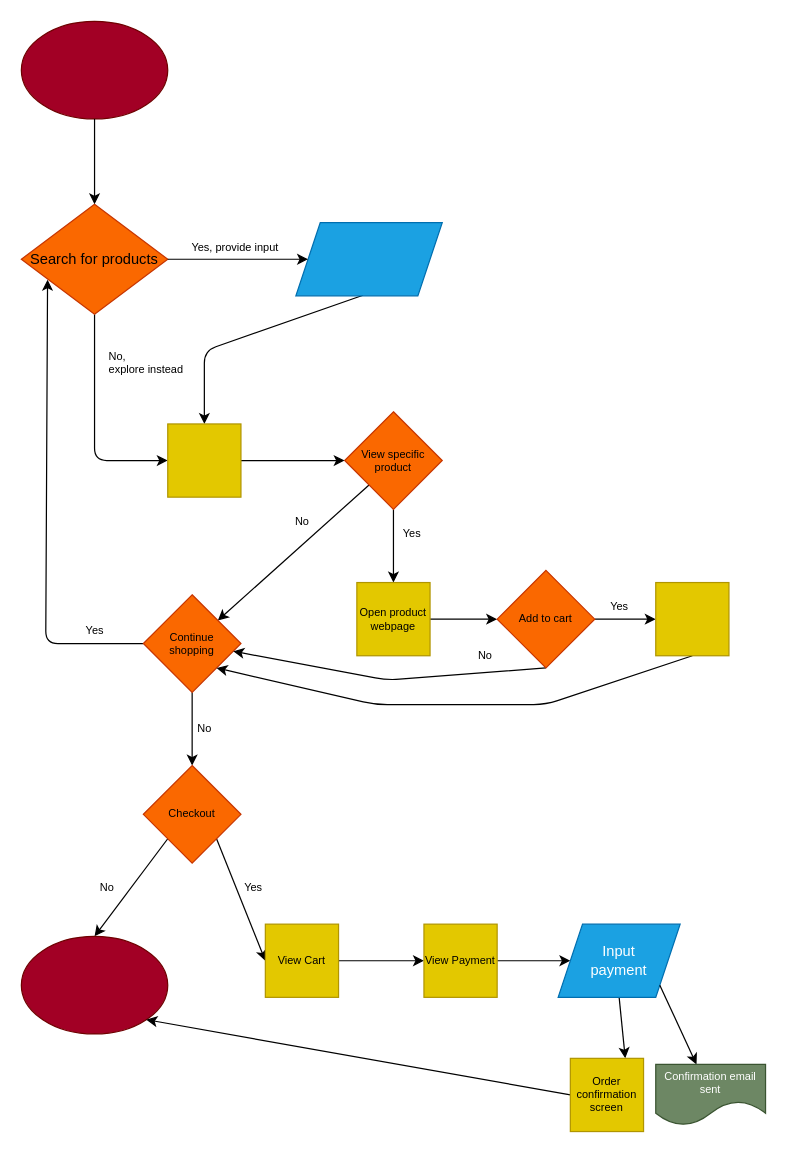
The diagram is 787 pixels wide and 1153 high, and some of its shapes have lost their labels. The shapes that lost their labels are listed below. From the top down, each one's box as (x1, y1, x2, y2) in pixels, then its label:
(20, 20, 168, 119): Start (enter website)
(295, 221, 442, 296): Input search
(167, 423, 241, 497): Look over products
(655, 581, 729, 656): Add to cart confirmation
(20, 935, 168, 1034): End (leave website)
